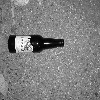beer: (7, 31, 69, 53)
